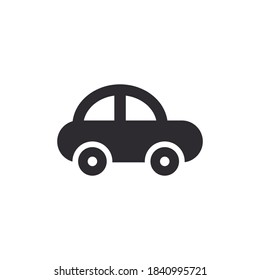car: (53, 81, 206, 178)
